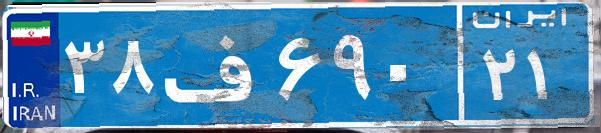0: (385, 28, 445, 110)
1: (525, 38, 570, 115)
2: (475, 38, 525, 113)
3: (57, 26, 110, 107)
6: (273, 28, 330, 110)
8: (110, 28, 158, 105)
9: (330, 28, 385, 110)
ف: (158, 15, 273, 115)
